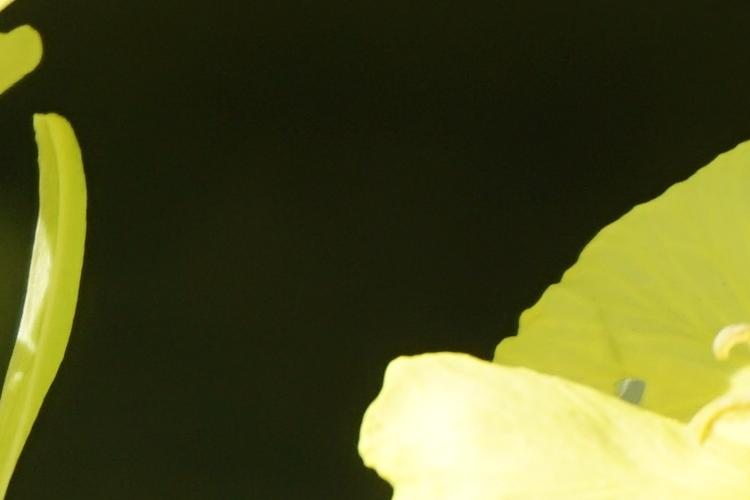yellow: (338, 120, 750, 492)
